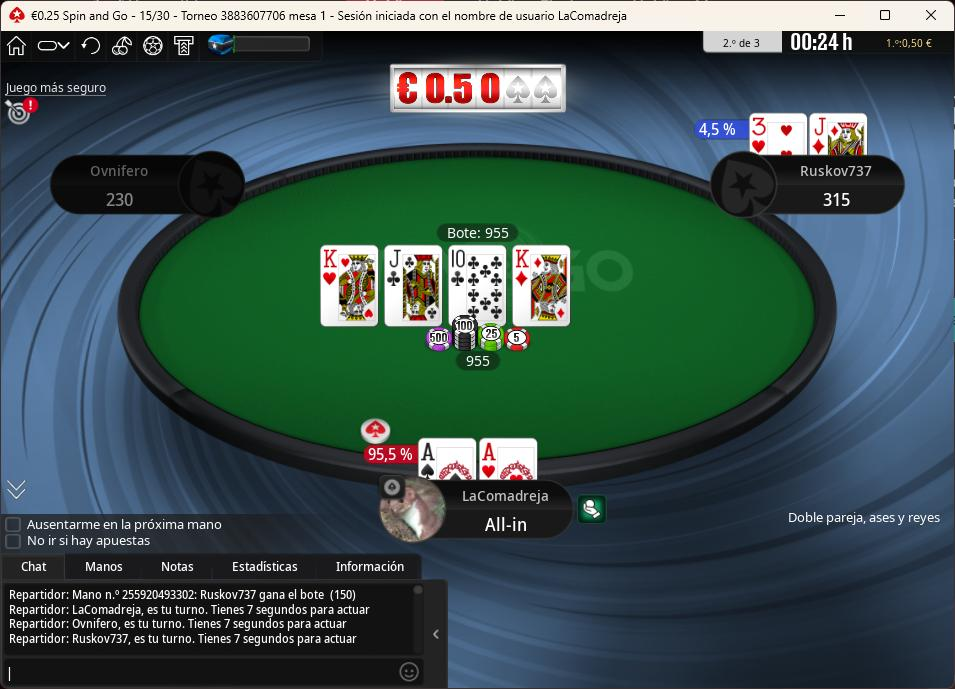Dealer: (361, 414, 394, 446)
Player: (49, 149, 246, 214), (714, 151, 903, 217)
PlayerChips: (820, 187, 856, 208), (104, 191, 138, 206)
Pot: (438, 222, 520, 242)
PrincipalCards: (418, 437, 543, 484)
PrincipalCards1: (418, 437, 481, 484)
PrincipalCards2: (478, 434, 538, 483)
PrincipalPlayer: (376, 474, 574, 541)
ShowedCards: (320, 241, 575, 331)
ShowedCards1: (319, 245, 384, 330)
ShowedCards2: (384, 246, 446, 330)
ShowedCards3: (447, 244, 508, 330)
ShowedCards4: (511, 243, 574, 329)
SmallBigBlind: (128, 6, 181, 29)
TablePot: (421, 312, 533, 373)
